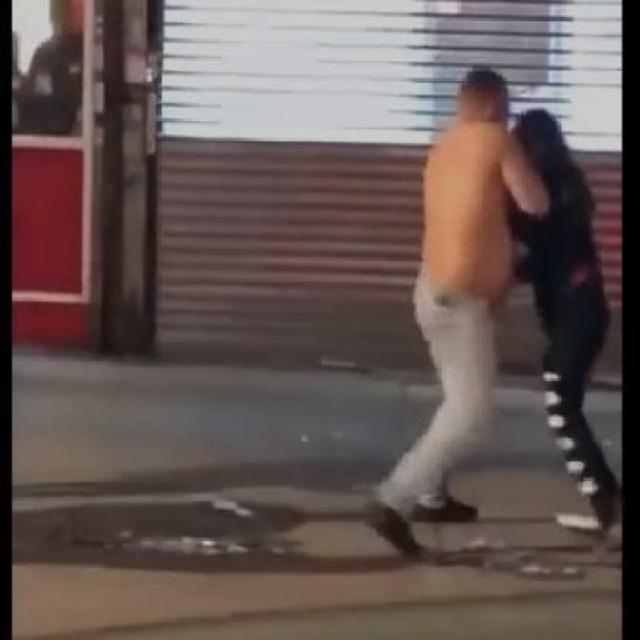fight: (326, 50, 639, 570)
